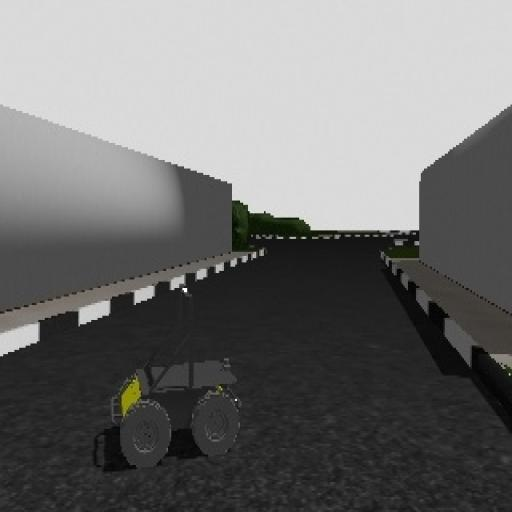huskya200: (103, 280, 256, 460)
